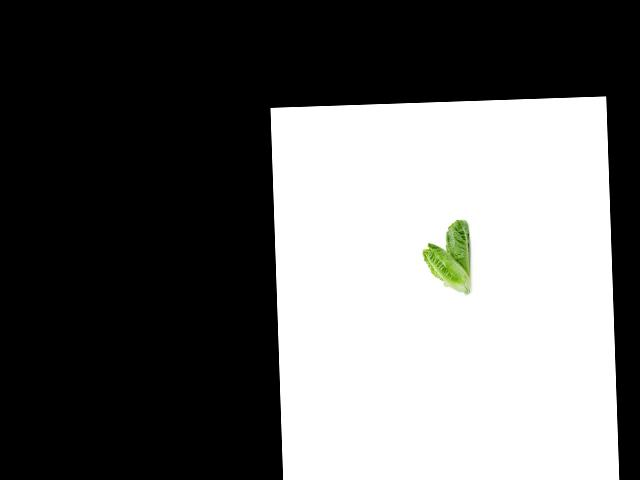lettuce: (443, 214, 475, 279)
